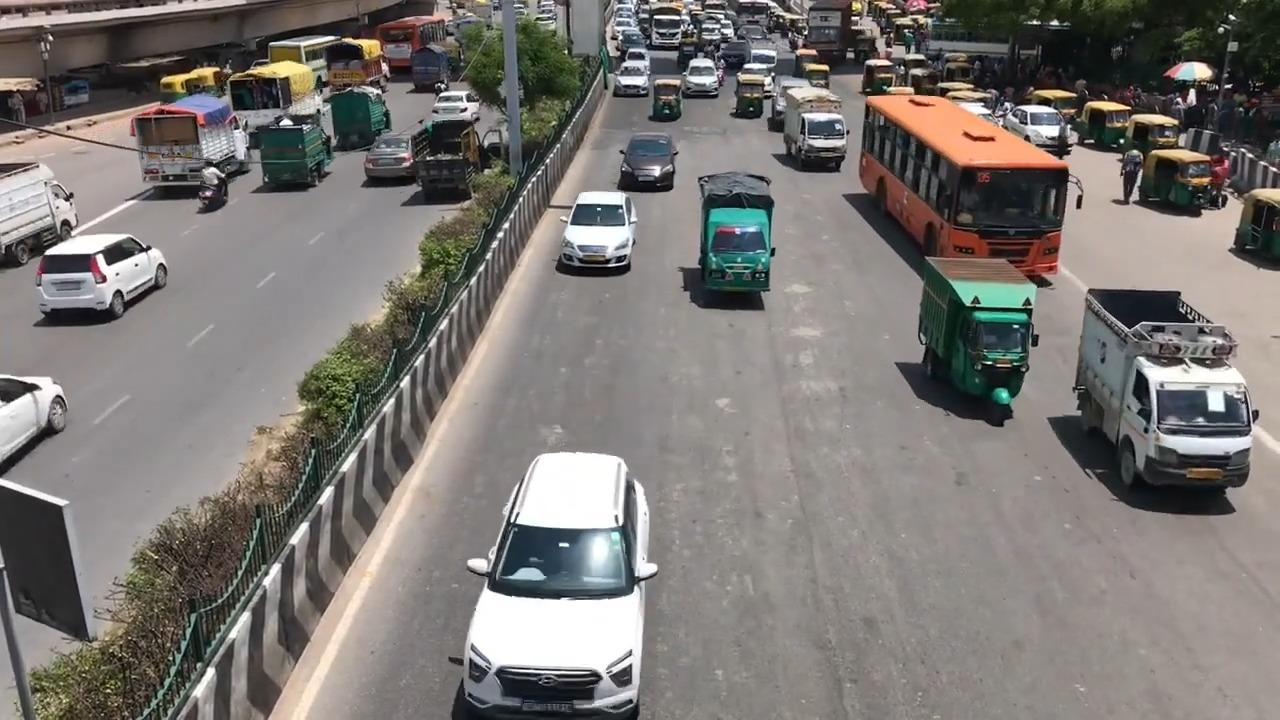Auto: (917, 255, 1039, 414), (1146, 147, 1212, 215), (1239, 185, 1280, 266), (652, 77, 683, 121)
Bike: (197, 160, 228, 208)
Bus: (857, 92, 1070, 279), (375, 14, 446, 71)
Car: (459, 449, 658, 719), (34, 232, 168, 319), (0, 373, 68, 468), (558, 189, 637, 270), (618, 131, 679, 191), (363, 130, 427, 179), (431, 90, 481, 123)
Truck: (1072, 286, 1259, 492), (129, 92, 249, 185), (697, 170, 775, 293), (0, 160, 78, 265), (413, 116, 507, 200), (780, 90, 852, 173), (257, 120, 333, 188), (321, 84, 391, 151)
